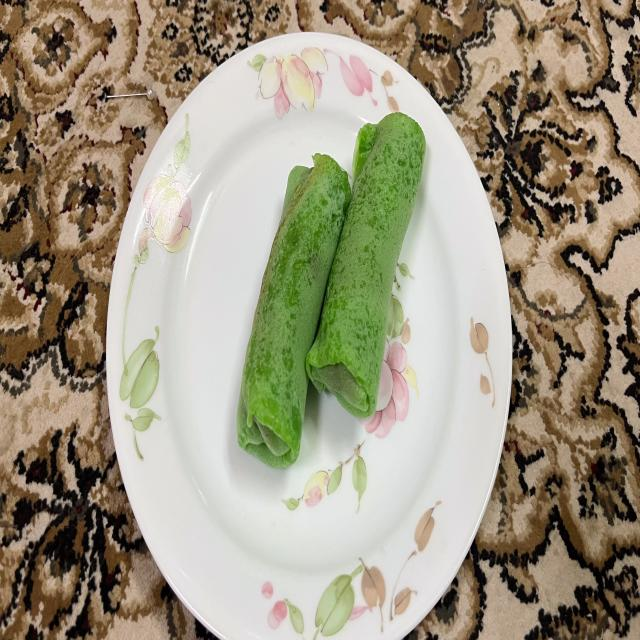Kuih-Ketayap: (306, 113, 426, 418), (236, 153, 351, 469)
